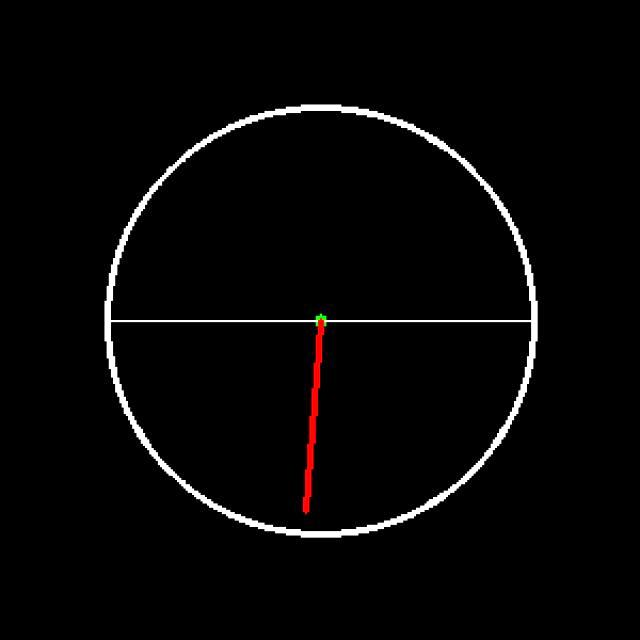Needle_Tip: (290, 480, 321, 527)
Needle_base: (285, 299, 358, 361)
